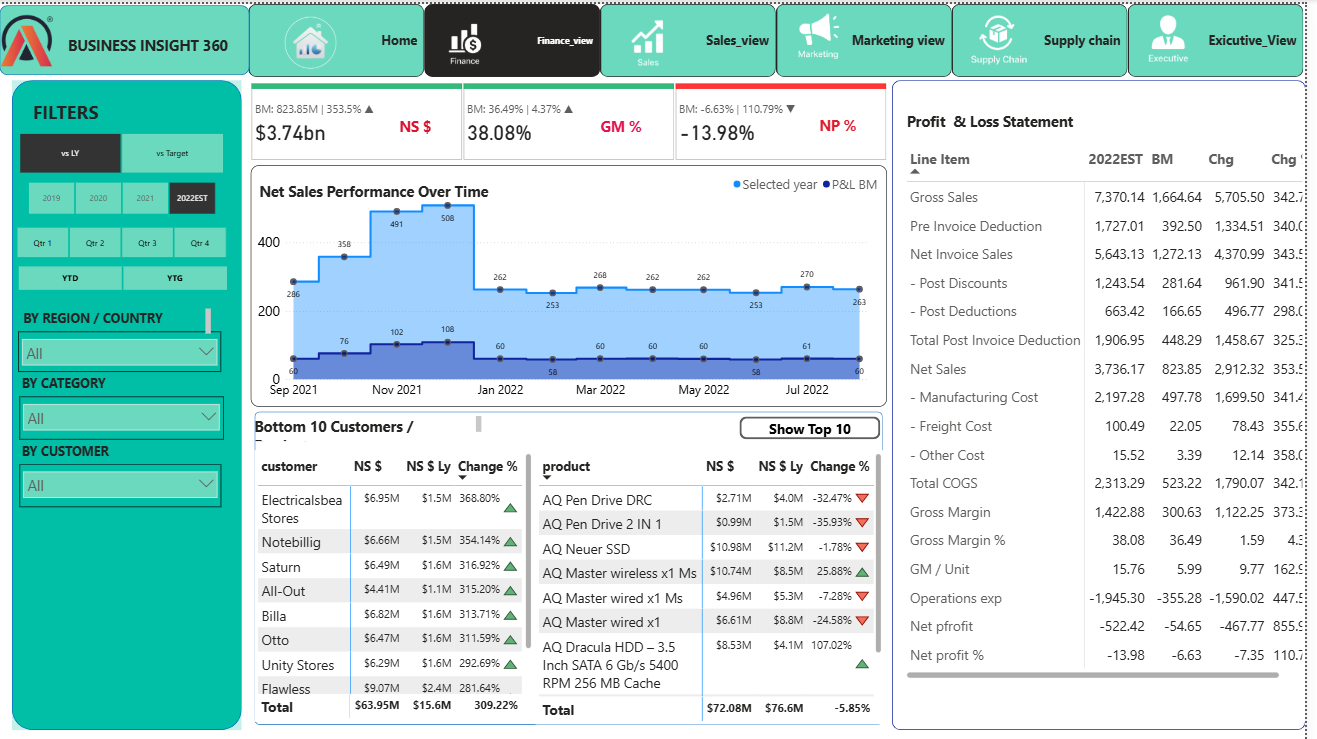

The page's visual inventory and layout, read from the dashboard file:
{"tool":"powerbi","page":{"name":"Finance_view","canvas":[1920,1080],"ordinal":1},"visuals":[{"type":"shape","box":[3.3,1.9,366.8,102.7],"z":0,"group":"g1"},{"type":"shape","box":[1312.7,111.7,607,953.3],"z":0},{"type":"textbox","box":[372.4,599.8,343.4,46.4],"z":0,"group":"g2"},{"type":"image","box":[0,1.9,89.4,102.4],"z":1000,"group":"g1"},{"type":"pivotTable","fields":{"Rows":["p & l rows.Line Item"],"Columns":["p&l columns.Col Header"],"Values":["Report measures.p&l Final value"]},"box":[1329.8,199.9,590.6,794.2],"z":1000},{"type":"shape","box":[378.5,597.7,922,459.9],"z":1000,"group":"g2"},{"type":"textbox","box":[99.6,40.1,265.5,42],"z":2000,"group":"g1"},{"type":"areaChart","fields":{"Category":["dim_date.date"],"Y":["Report measures.p&l values","Report measures.P&L BM"]},"box":[372.4,236.6,933.6,354],"z":2000},{"type":"pivotTable","fields":{"Values":["Report measures.NS $","Report measures.NS $ Ly","Report measures.Δ NS $"],"Rows":["dim_customer.customer"]},"box":[377.7,654.9,411.6,398.7],"z":2000,"group":"g2"},{"type":"image","box":[1665.2,1.9,112.6,103.4],"z":3000,"group":"g1"},{"type":"cardVisual","fields":{"Data":["Report measures.NS $","Report measures.GM %","Report measures.net profit %"]},"box":[368.7,111.7,944,122.9],"z":3000},{"type":"pivotTable","fields":{"Values":["Report measures.NS $","Report measures.NS $ Ly","Report measures.chg net sales %"],"Rows":["dim_product.product"]},"box":[791.2,654.9,512.2,402.4],"z":3000,"group":"g2"},{"type":"image","box":[888,0.2,132.9,107.1],"z":4000,"group":"g1"},{"type":"shape","box":[22.3,111.7,337,953.3],"z":4000},{"type":"actionButton","title":"top 10","box":[1089.2,604.9,206.7,33.4],"z":4000,"group":"g2"},{"type":"image","box":[640.6,0.2,99.7,107.1],"z":5000,"group":"g1"},{"type":"slicer","fields":{"Values":["set bm.Benchmark"]},"box":[3.7,184.3,355.6,70.8],"z":5000},{"type":"image","box":[1142.8,-0.2,118.2,99.7],"z":6000,"group":"g1"},{"type":"slicer","fields":{"Values":["dim_date.date.Variation.Date Hierarchy.Quarter"]},"box":[3.7,320.3,355.6,57.7],"z":6000},{"type":"image","box":[1412.3,0.3,112.6,105.2],"z":7000,"group":"g1"},{"type":"slicer","fields":{"Values":["fiscal_year.fy_desc"]},"box":[16.8,255.1,331.4,59.6],"z":7000},{"type":"slicer","fields":{"Values":["dim_date.Ytd_Ytg"]},"box":[5.6,378,355.6,48.4],"z":8000},{"type":"slicer","fields":{"Values":["dim_market.region","dim_market.market"]},"box":[31.7,480.4,297.9,59.6],"z":9000},{"type":"slicer","fields":{"Values":["dim_customer.customer"]},"box":[33.5,675.9,296,63.3],"z":10000},{"type":"slicer","fields":{"Values":["category.category"]},"box":[33.5,575.3,299.8,63.3],"z":11000},{"type":"textbox","box":[48,136.6,144,46.2],"z":12000},{"type":"textbox","box":[1329.2,151.4,358.2,48],"z":13000},{"type":"textbox","box":[379.8,255.1,359.4,48.4],"z":14000},{"type":"pageNavigator","box":[369.2,0,1550.8,107.1],"z":15000},{"type":"textbox","box":[31.3,540,223.3,52.2],"z":16000},{"type":"textbox","box":[33,442.1,286.1,49.5],"z":17000},{"type":"textbox","box":[31.7,638.6,197.4,52.1],"z":18000},{"type":"group","id":"g1","title":"page nevigation","box":[0,-0.2,1777.8,107.5],"z":19000},{"type":"textbox","box":[584.6,160.1,83.8,52.1],"z":20000},{"type":"textbox","box":[880.4,159.6,102.7,51.4],"z":21000},{"type":"textbox","box":[1201.4,157.7,95.4,51.4],"z":22000},{"type":"group","id":"g2","title":"bottom 10","box":[372.4,597.7,931,459.9],"z":24000},{"type":"image","box":[348.9,0,223.4,112.6],"z":26000}]}

Visuals, with their boxes on the page's 1920x1080 design canvas (x1, y1, x2, y2). These are canvas units, not pixel positions in the 1317x739 screenshot, which may show the page scaled, cropped or inside an application window:
shape: region(3, 2, 370, 105)
shape: region(1313, 112, 1920, 1065)
textbox: region(372, 600, 716, 646)
image: region(0, 2, 89, 104)
pivotTable - p & l rows.Line Item x p&l columns.Col Header: region(1330, 200, 1920, 994)
shape: region(378, 598, 1300, 1058)
textbox: region(100, 40, 365, 82)
areaChart - dim_date.date x Report measures.p&l values: region(372, 237, 1306, 591)
pivotTable - Report measures.NS $ x Report measures.NS $ Ly: region(378, 655, 789, 1054)
image: region(1665, 2, 1778, 105)
cardVisual - Report measures.NS $ x Report measures.GM %: region(369, 112, 1313, 235)
pivotTable - Report measures.NS $ x Report measures.NS $ Ly: region(791, 655, 1303, 1057)
image: region(888, 0, 1021, 107)
shape: region(22, 112, 359, 1065)
"top 10" actionButton: region(1089, 605, 1296, 638)
image: region(641, 0, 740, 107)
slicer - set bm.Benchmark: region(4, 184, 359, 255)
image: region(1143, 0, 1261, 100)
slicer - dim_date.date.Variation.Date Hierarchy.Quarter: region(4, 320, 359, 378)
image: region(1412, 0, 1525, 106)
slicer - fiscal_year.fy_desc: region(17, 255, 348, 315)
slicer - dim_date.Ytd_Ytg: region(6, 378, 361, 426)
slicer - dim_market.region x dim_market.market: region(32, 480, 330, 540)
slicer - dim_customer.customer: region(34, 676, 330, 739)
slicer - category.category: region(34, 575, 333, 639)
textbox: region(48, 137, 192, 183)
textbox: region(1329, 151, 1687, 199)
textbox: region(380, 255, 739, 304)
pageNavigator: region(369, 0, 1920, 107)
textbox: region(31, 540, 255, 592)
textbox: region(33, 442, 319, 492)
textbox: region(32, 639, 229, 691)
"page nevigation" group: region(0, 0, 1778, 107)
textbox: region(585, 160, 668, 212)
textbox: region(880, 160, 983, 211)
textbox: region(1201, 158, 1297, 209)
"bottom 10" group: region(372, 598, 1303, 1058)
image: region(349, 0, 572, 113)
